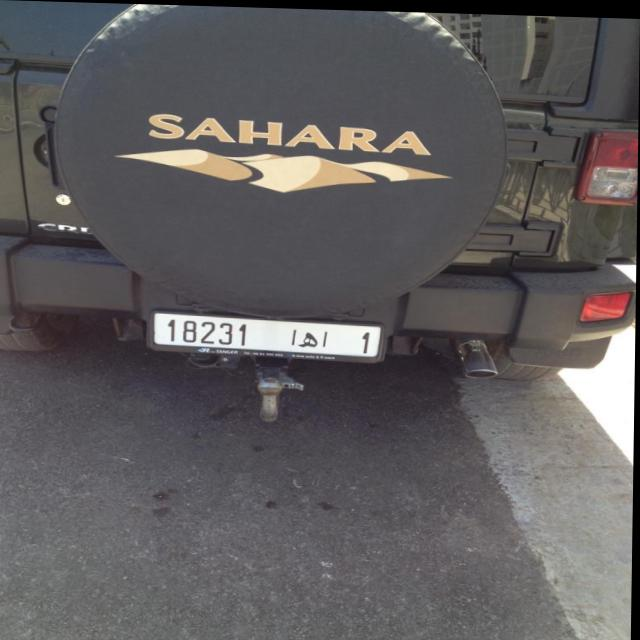License-Plate: (149, 310, 385, 359)
